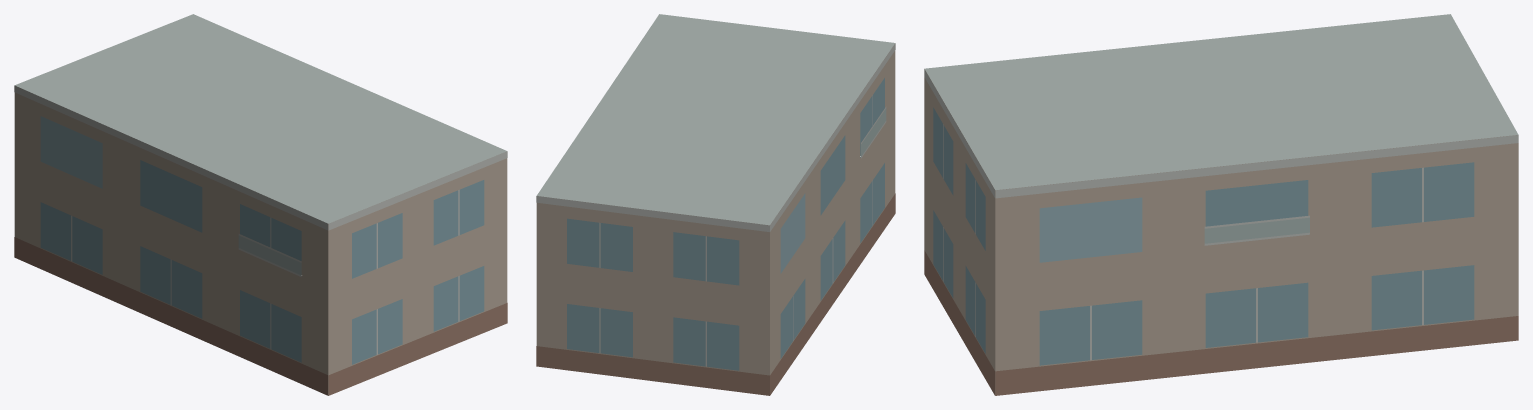
Rendered from survey-upis-32715345.glb.
3 views of the same model, side by side, from view 1: azimuth 30°, elevation 25°; view 2: azimuth 150°, elevation 25°; view 3: azimuth 270°, elevation 25° (orthographic). The views are drawn at different scales.
Visible parts, largest first — view 1: survey-upis-32715345.tmp; view 2: survey-upis-32715345.tmp; view 3: survey-upis-32715345.tmp.
Boxes of the visible parts, x1=… form: survey-upis-32715345.tmp: x1=14, y1=14, x2=507, y2=395; survey-upis-32715345.tmp: x1=536, y1=14, x2=895, y2=395; survey-upis-32715345.tmp: x1=924, y1=14, x2=1518, y2=395.
Size of the model in its own units: 11.22 by 6.1 by 15.99.
